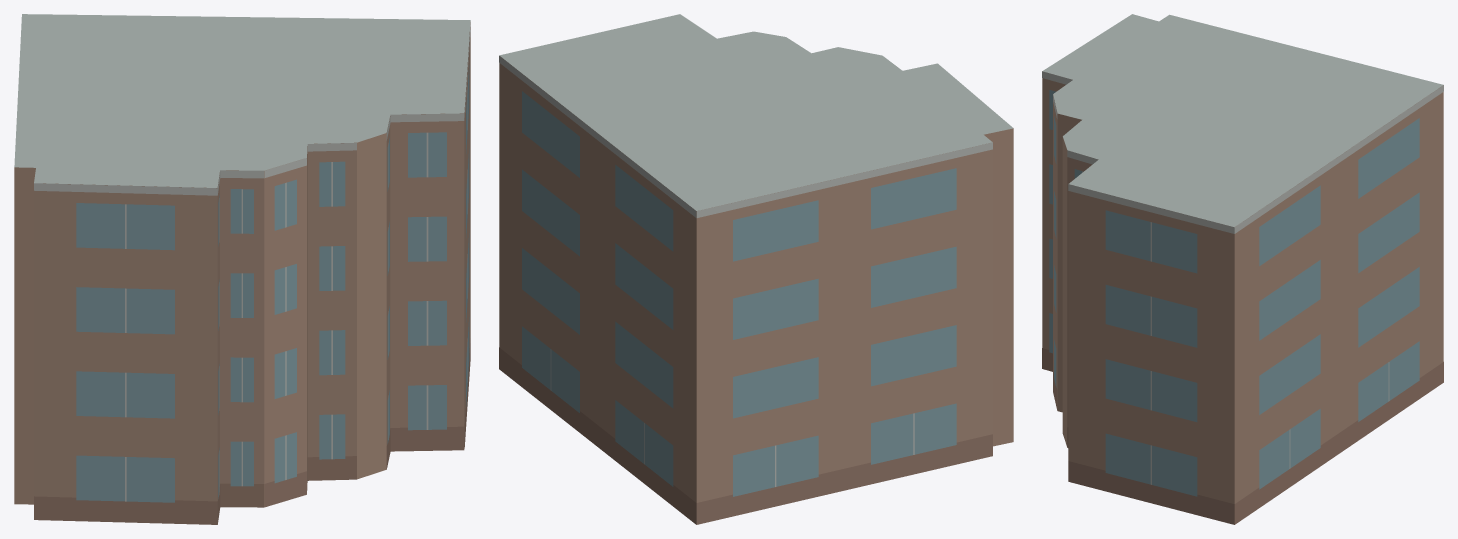
Rendered from survey-upis-32741065.glb.
3 views of the same model, side by side, from view 1: azimuth 30°, elevation 25°; view 2: azimuth 150°, elevation 25°; view 3: azimuth 270°, elevation 25° (orthographic). The views are drawn at different scales.
Parts seen in each view (by area): view 1: survey-upis-32741065.tmp; view 2: survey-upis-32741065.tmp; view 3: survey-upis-32741065.tmp.
Boxes of the visible parts, x1=… form: survey-upis-32741065.tmp: x1=14, y1=14, x2=470, y2=524; survey-upis-32741065.tmp: x1=499, y1=14, x2=1013, y2=524; survey-upis-32741065.tmp: x1=1042, y1=14, x2=1443, y2=524.
Bounding box in the file's own units: 16.45 × 10.7 × 13.1.
